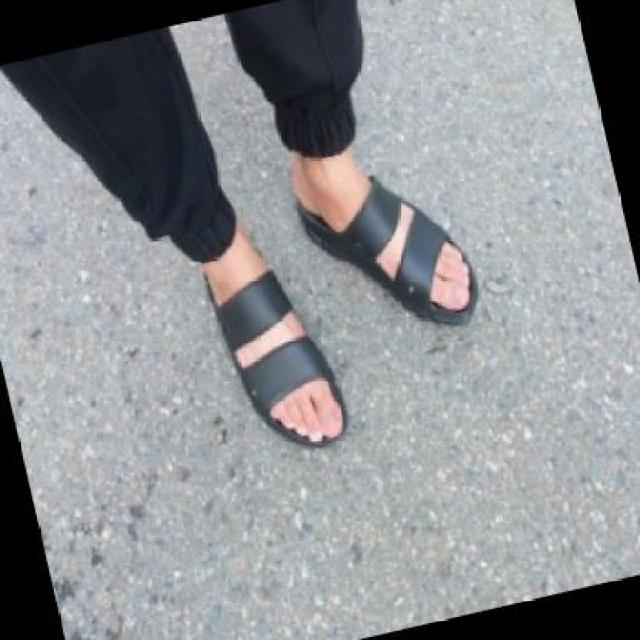Sandals: (190, 232, 359, 457), (292, 162, 499, 330)
